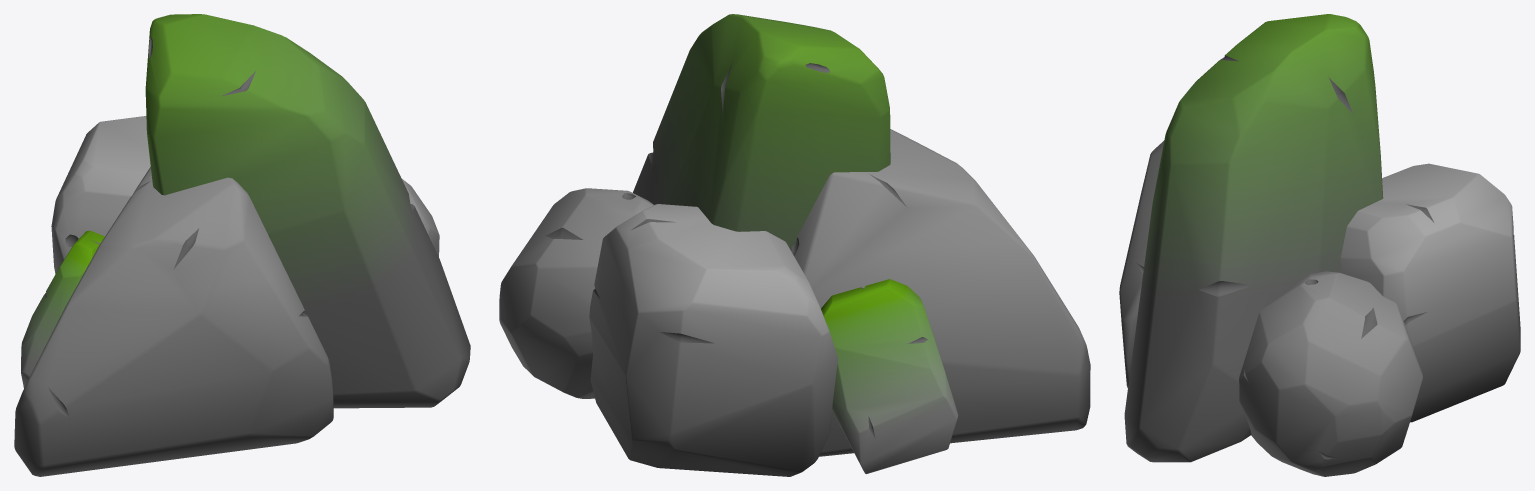
File: RockCliff03.fbx
3 views of the same model, side by side, from view 1: azimuth 30°, elevation 25°; view 2: azimuth 150°, elevation 25°; view 3: azimuth 270°, elevation 25° (orthographic). The views are drawn at different scales.
Visible parts, largest first — view 1: LOD0; view 2: LOD0; view 3: LOD0.
Part boxes in pixels (x1,y1,x2,y2): LOD0: [14, 14, 470, 476]; LOD0: [499, 14, 1090, 476]; LOD0: [1119, 14, 1520, 476].
Size of what is drawn, in the model's own units: 978 by 728 by 727.
